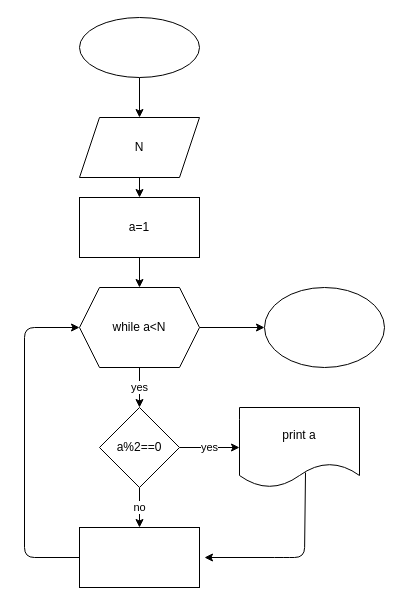
The diagram is 402 pixels wide and 605 high, and some of its shapes have lost their labels. The centre of each missing label's shape, as x and y in pixels:
a++: point 139,557
end: point 324,327
start: point 139,47
